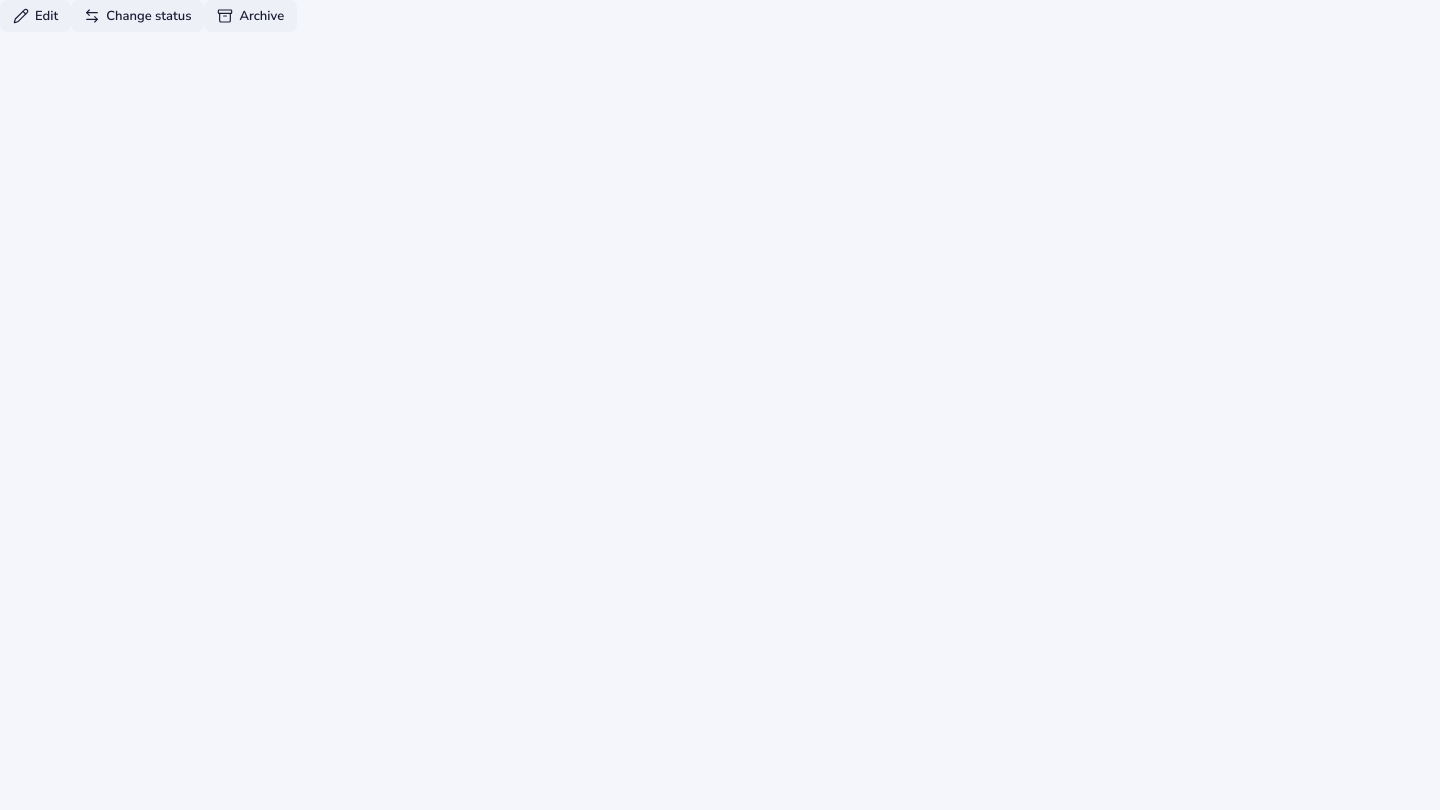
DriverActions › status › reinstates a suspended driver and clears the reason
Click the button "Change status": (138, 16) [71, 0, 204, 32]
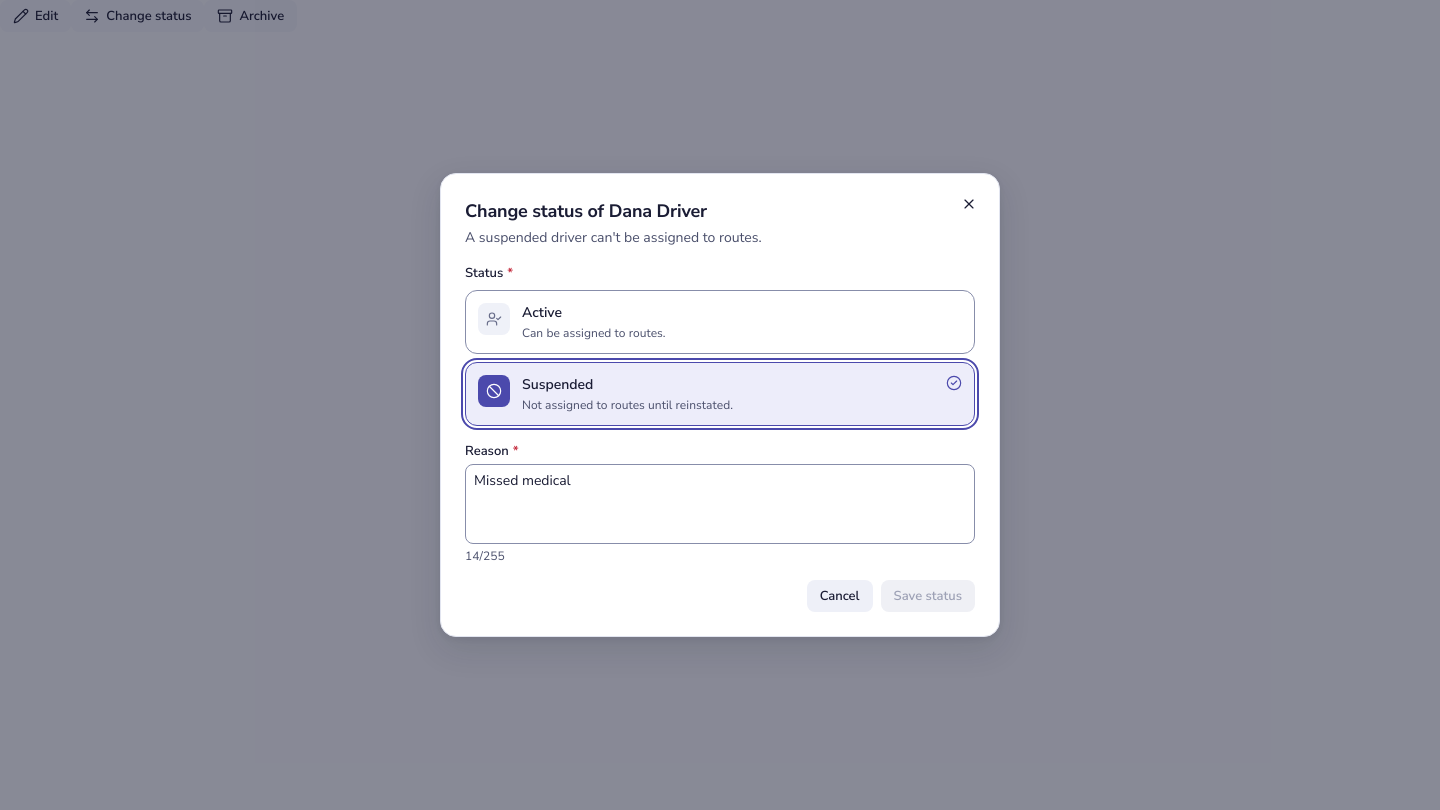
Click the radio button labelled "Active Can be assigned to routes.": (494, 319) [465, 290, 975, 354]
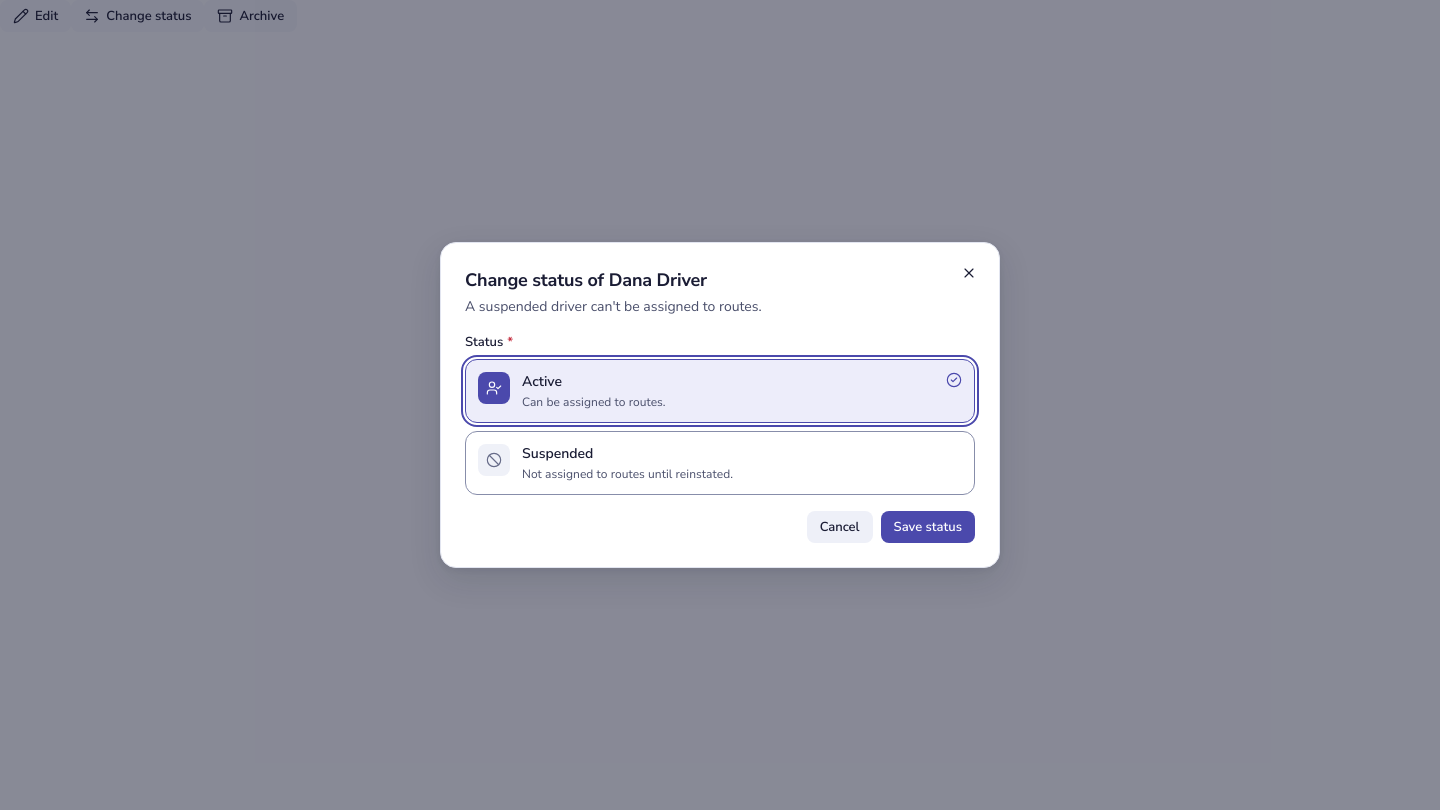
Click the button "Save status": (928, 527) [881, 511, 975, 543]
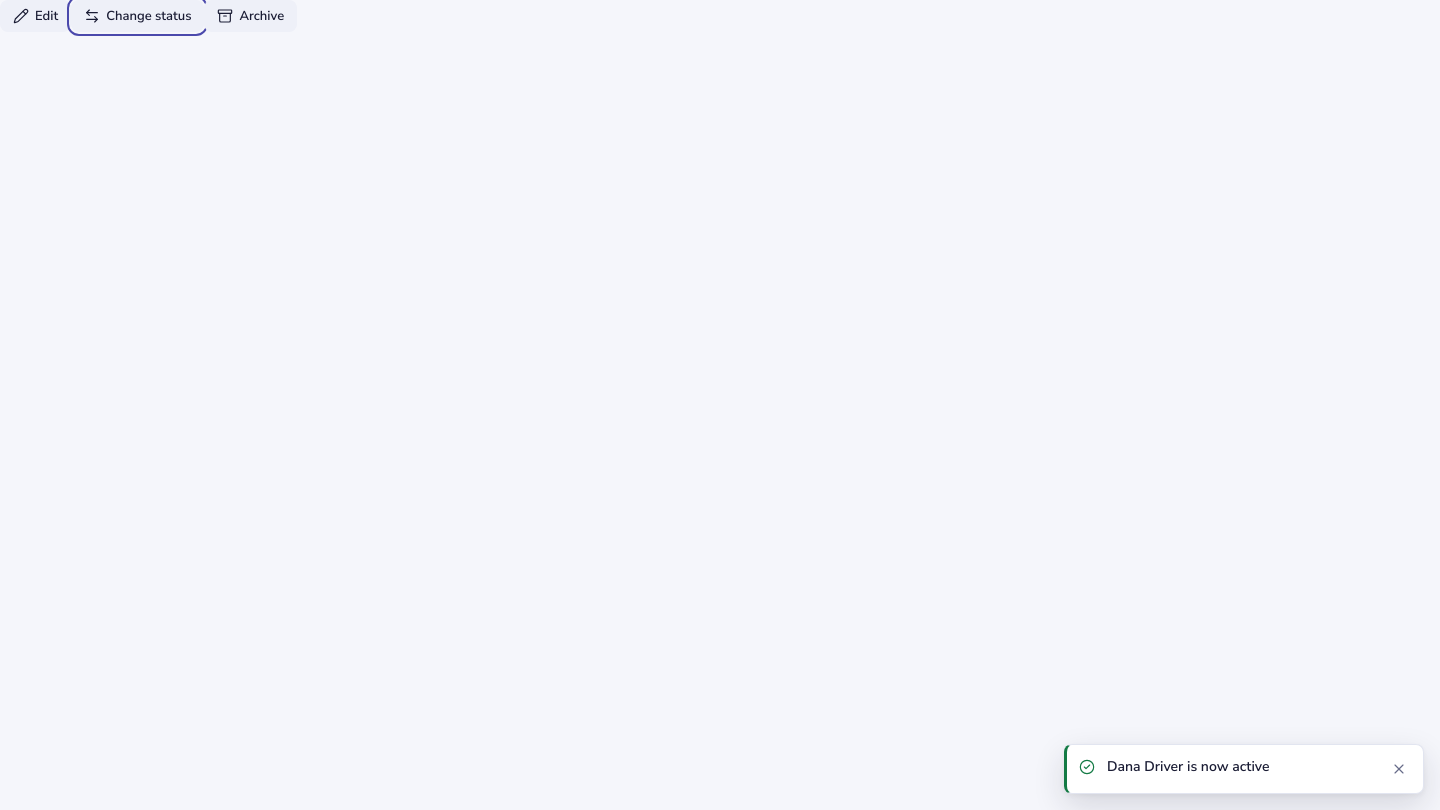
Now the text "Dana Driver is now active" is shown, box [1107, 757, 1270, 776]
